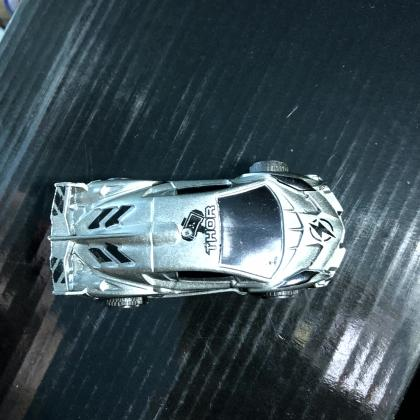Car: (49, 162, 346, 309)
